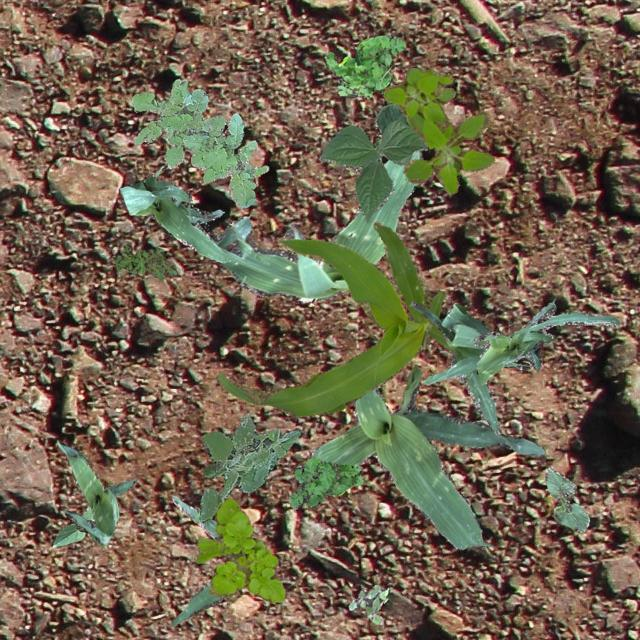crop: (214, 220, 450, 417), (311, 364, 544, 548), (150, 150, 420, 300), (409, 300, 528, 436), (318, 102, 426, 220), (472, 298, 618, 384), (118, 176, 228, 262), (57, 440, 135, 544), (170, 494, 222, 624), (544, 466, 588, 532), (50, 506, 94, 546)
weed: (130, 78, 268, 208), (382, 66, 494, 192), (198, 412, 300, 522), (192, 496, 284, 602), (324, 34, 404, 98), (288, 456, 362, 510), (110, 242, 176, 280), (348, 584, 388, 624)
